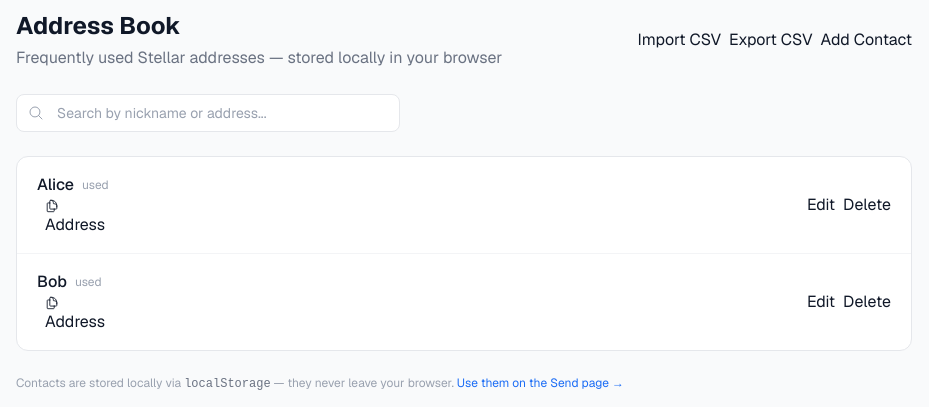
AddressBookPage › searches contacts by nickname
Type "bob" into the field named "search contacts" at {"x": 208, "y": 113}, box [16,94,400,132]
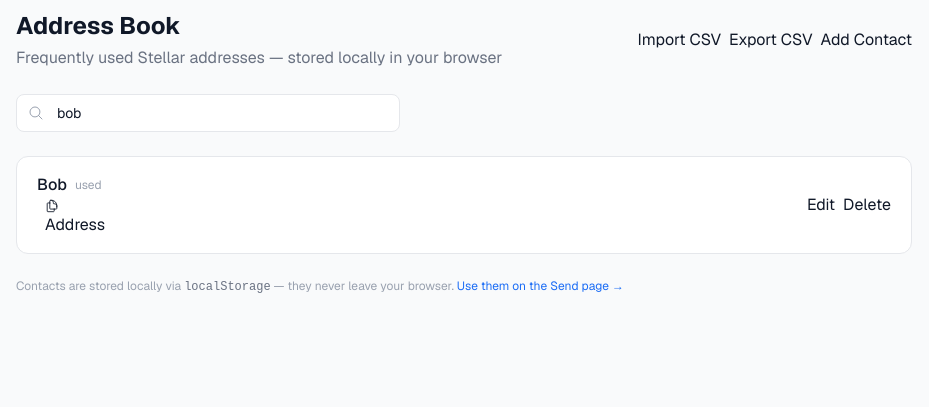
Check: the text "Bob" is shown, box [37,173,67,197]
Check: the text "Alice" is gone
